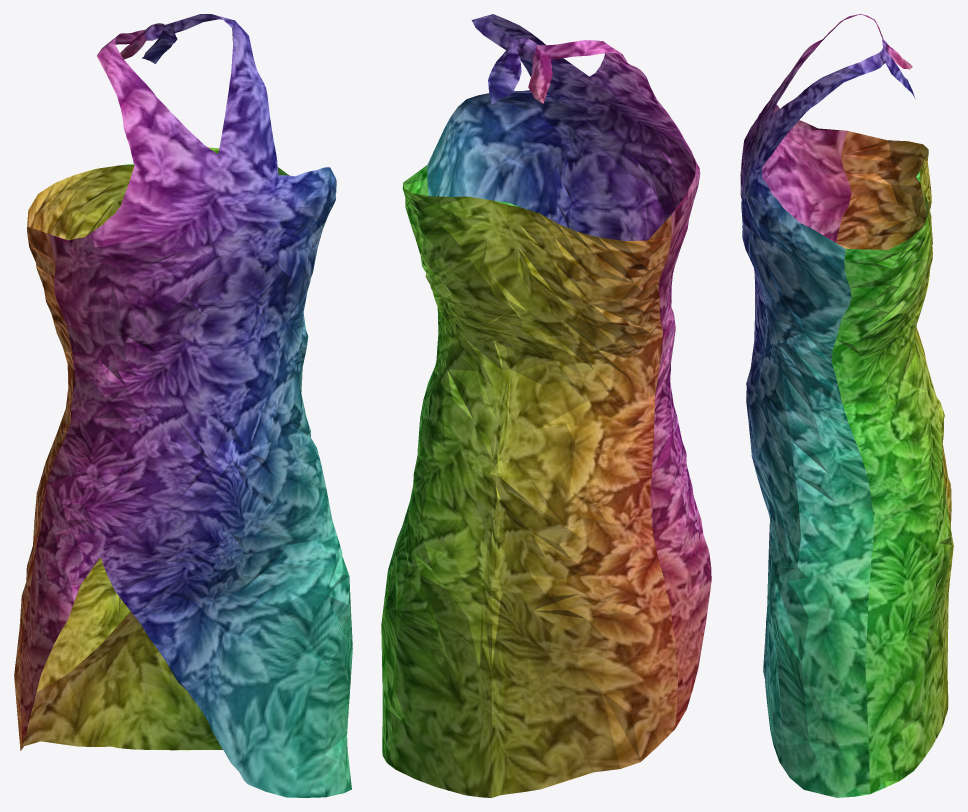
Rendered from mhw_elvs_sarong_cover_up.glb.
3 renders of one model, left to right at view 1: azimuth 30°, elevation 25°; view 2: azimuth 150°, elevation 25°; view 3: azimuth 270°, elevation 25°, orthographic. The views are drawn at different scales.
Visible parts, largest first — view 1: mhw_elvs_sarong_cover_up; view 2: mhw_elvs_sarong_cover_up; view 3: mhw_elvs_sarong_cover_up.
Boxes of the visible parts, x1,y1,x2,y2 form: mhw_elvs_sarong_cover_up: (14, 14, 352, 797); mhw_elvs_sarong_cover_up: (381, 14, 711, 797); mhw_elvs_sarong_cover_up: (740, 14, 953, 797).
Bounding box in the file's own units: 0.4498 × 1.07 × 0.2989.
1 material, 1 textured.
